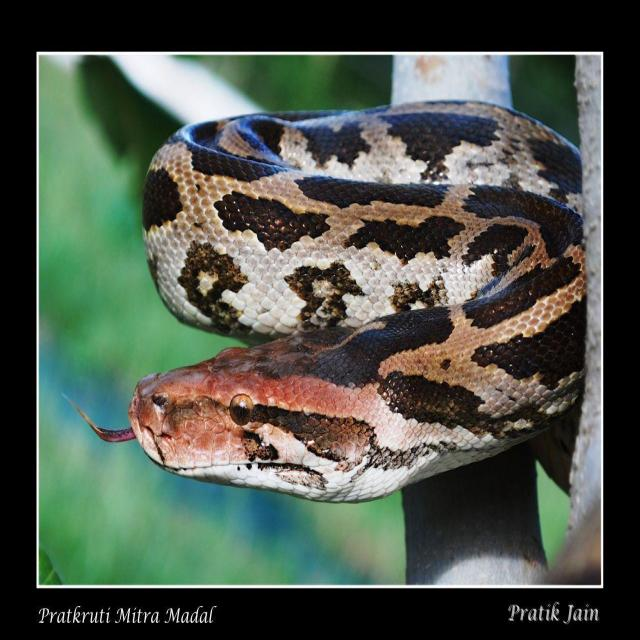Snake: (66, 98, 587, 504)
